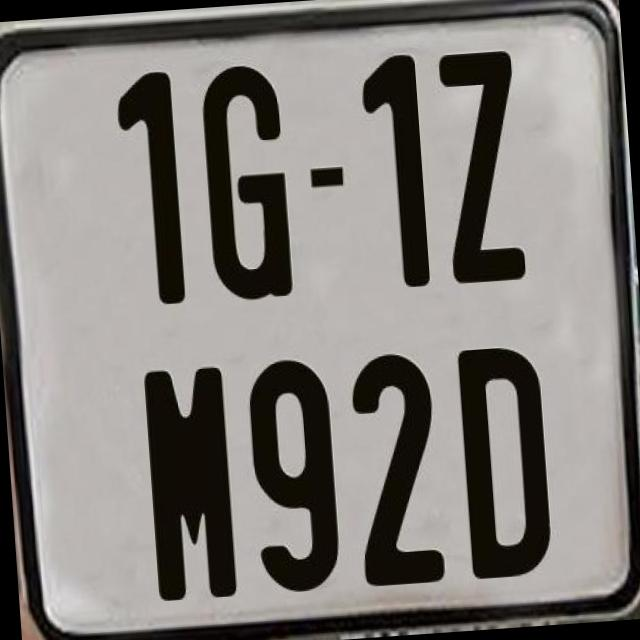1: (110, 66, 185, 302), (359, 49, 433, 287)
2: (346, 348, 448, 588)
9: (242, 353, 344, 598)
D: (456, 341, 556, 578)
G: (198, 58, 296, 302)
M: (140, 360, 239, 602)
Z: (437, 45, 531, 285)
